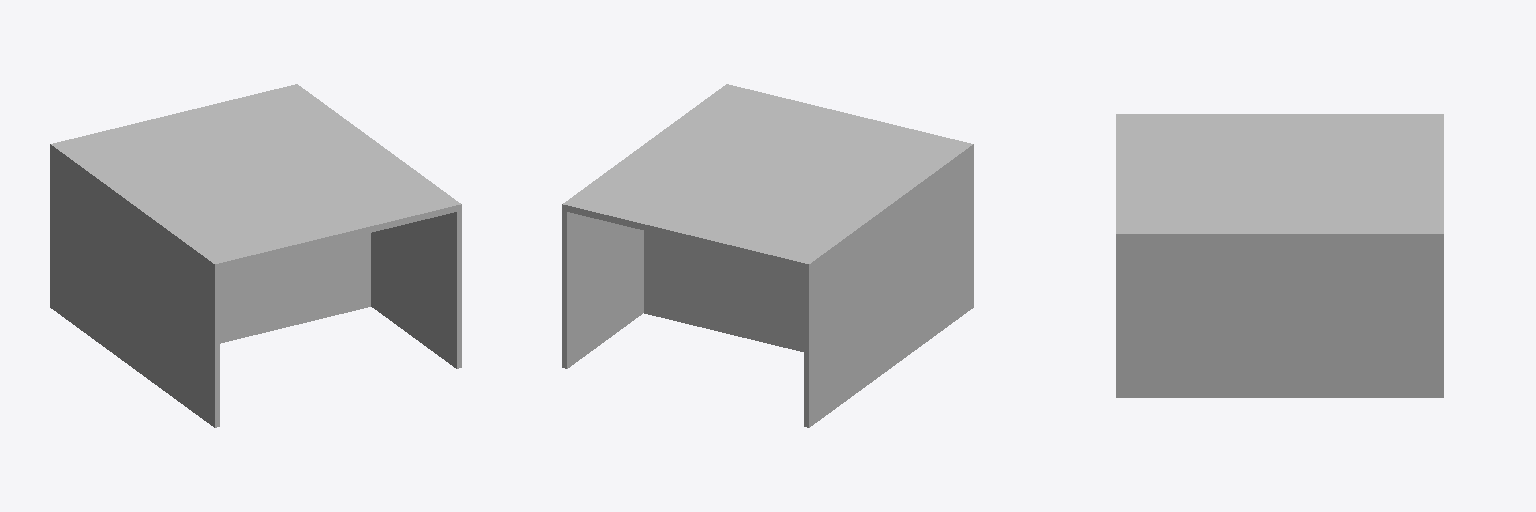
Rendered from BigCubicle_Col.obj.
3 renders of one model, left to right at view 1: azimuth 30°, elevation 25°; view 2: azimuth 150°, elevation 25°; view 3: azimuth 270°, elevation 25°, orthographic.
Visible parts, largest first — view 1: Cube; view 2: Cube; view 3: Cube.
Part boxes in pixels (bbox=[...]): Cube: bbox=[50, 84, 461, 427]; Cube: bbox=[562, 84, 973, 427]; Cube: bbox=[1116, 114, 1443, 397].
Bounding box in the file's own units: 1.35 × 0.855 × 1.56.